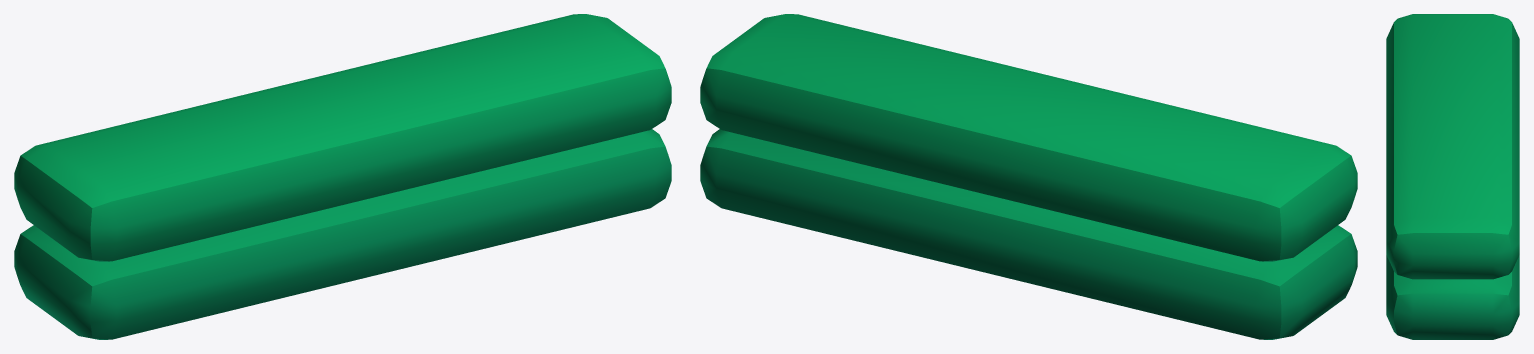
Rendered from barrier_4x1x1_green.glb.
3 views of the same model, side by side, from view 1: azimuth 30°, elevation 25°; view 2: azimuth 150°, elevation 25°; view 3: azimuth 270°, elevation 25° (orthographic). The views are drawn at different scales.
Parts seen in each view (by area): view 1: barrier_4x1x1_green; view 2: barrier_4x1x1_green; view 3: barrier_4x1x1_green.
Part boxes in pixels (x1,y1,x2,y2): barrier_4x1x1_green: [14, 14, 671, 339]; barrier_4x1x1_green: [700, 14, 1357, 339]; barrier_4x1x1_green: [1386, 14, 1519, 339].
Bounding box in the file's own units: 4 × 1 × 1.
Materials: 1 (1 with a texture image).
